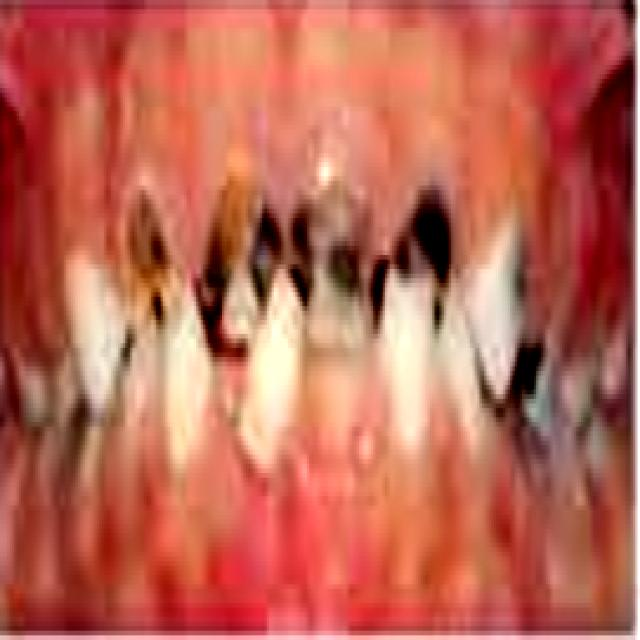cariess: (196, 199, 326, 311), (128, 195, 182, 315), (394, 190, 449, 283), (326, 237, 357, 288)
